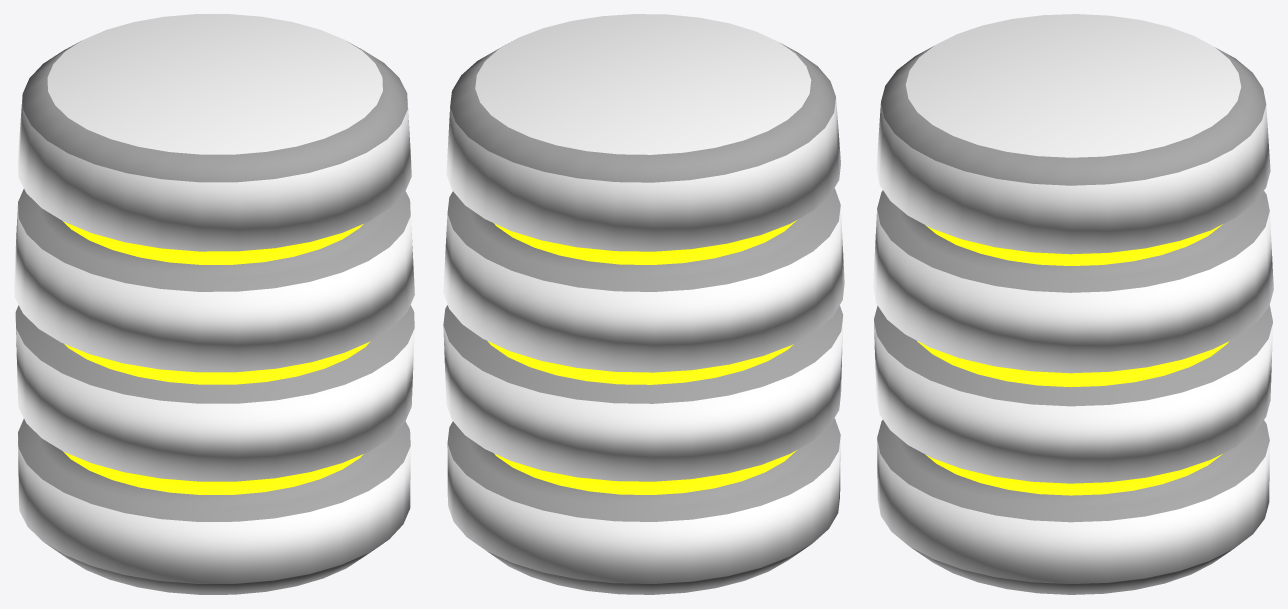
Rendered from database.glb.
The picture shows the model from 3 angles, left to right: view 1: azimuth 30°, elevation 25°; view 2: azimuth 150°, elevation 25°; view 3: azimuth 270°, elevation 25°; orthographic projection.
Parts seen in each view (by area): view 1: Cylinder.001; view 2: Cylinder.001; view 3: Cylinder.001.
Boxes of the visible parts, x1,y1,x2,y2 form: Cylinder.001: [14, 14, 414, 594]; Cylinder.001: [443, 14, 844, 594]; Cylinder.001: [873, 14, 1273, 594].
Size of the model in its own units: 1.77 by 2.14 by 1.77.
